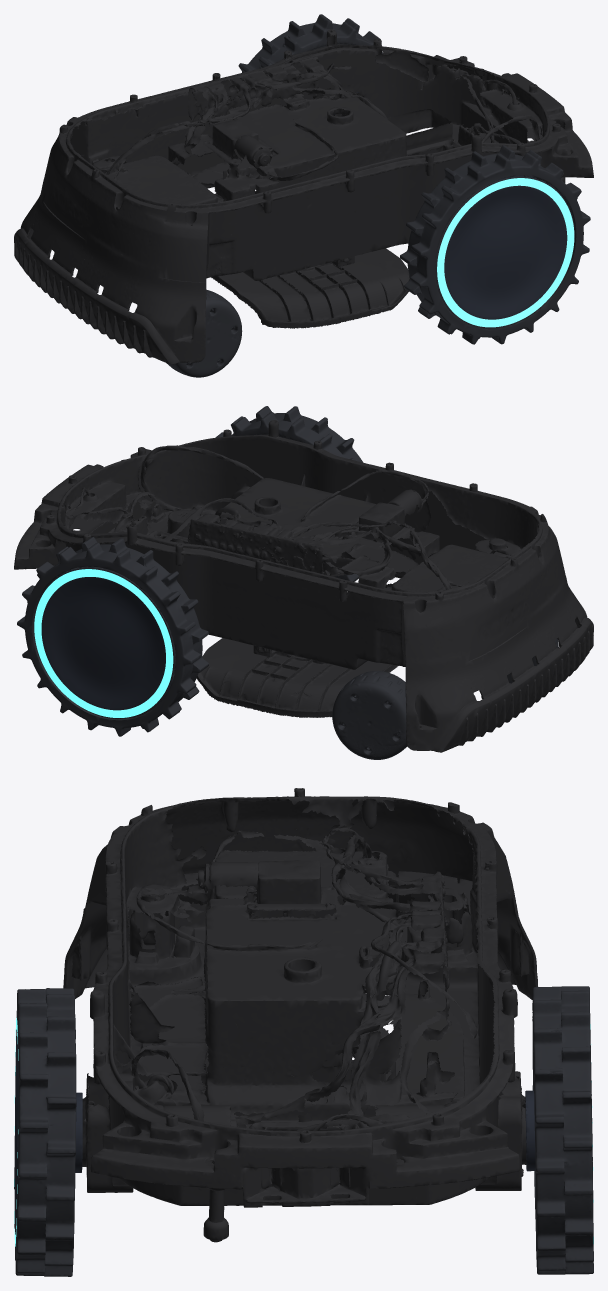
3 renders of one model, top to bottom at view 1: azimuth 30°, elevation 25°; view 2: azimuth 150°, elevation 25°; view 3: azimuth 270°, elevation 25°, orthographic. The views are drawn at different scales.
Visible parts, largest first — view 1: Chassis, Wheel_R, RingDecal_R, Wheel_L, Caster_R; view 2: Chassis, Wheel_L, Caster_L, RingDecal_L, Wheel_R; view 3: Chassis, Wheel_R, Wheel_L.
Part boxes in pixels (x1,y1,x2,y2): Chassis: (14, 29, 593, 364); Wheel_R: (400, 145, 590, 344); RingDecal_R: (437, 178, 574, 327); Wheel_L: (238, 14, 383, 114); Caster_R: (166, 289, 242, 377); Chassis: (14, 420, 593, 752); Wheel_L: (17, 537, 208, 736); Caster_L: (332, 671, 407, 759); RingDecal_L: (34, 569, 173, 717); Wheel_R: (216, 406, 362, 581); Chassis: (63, 788, 537, 1242); Wheel_R: (14, 988, 82, 1276); Wheel_L: (525, 986, 593, 1274).
Bounding box in the file's own units: 0.6352 × 0.2448 × 0.4589.
